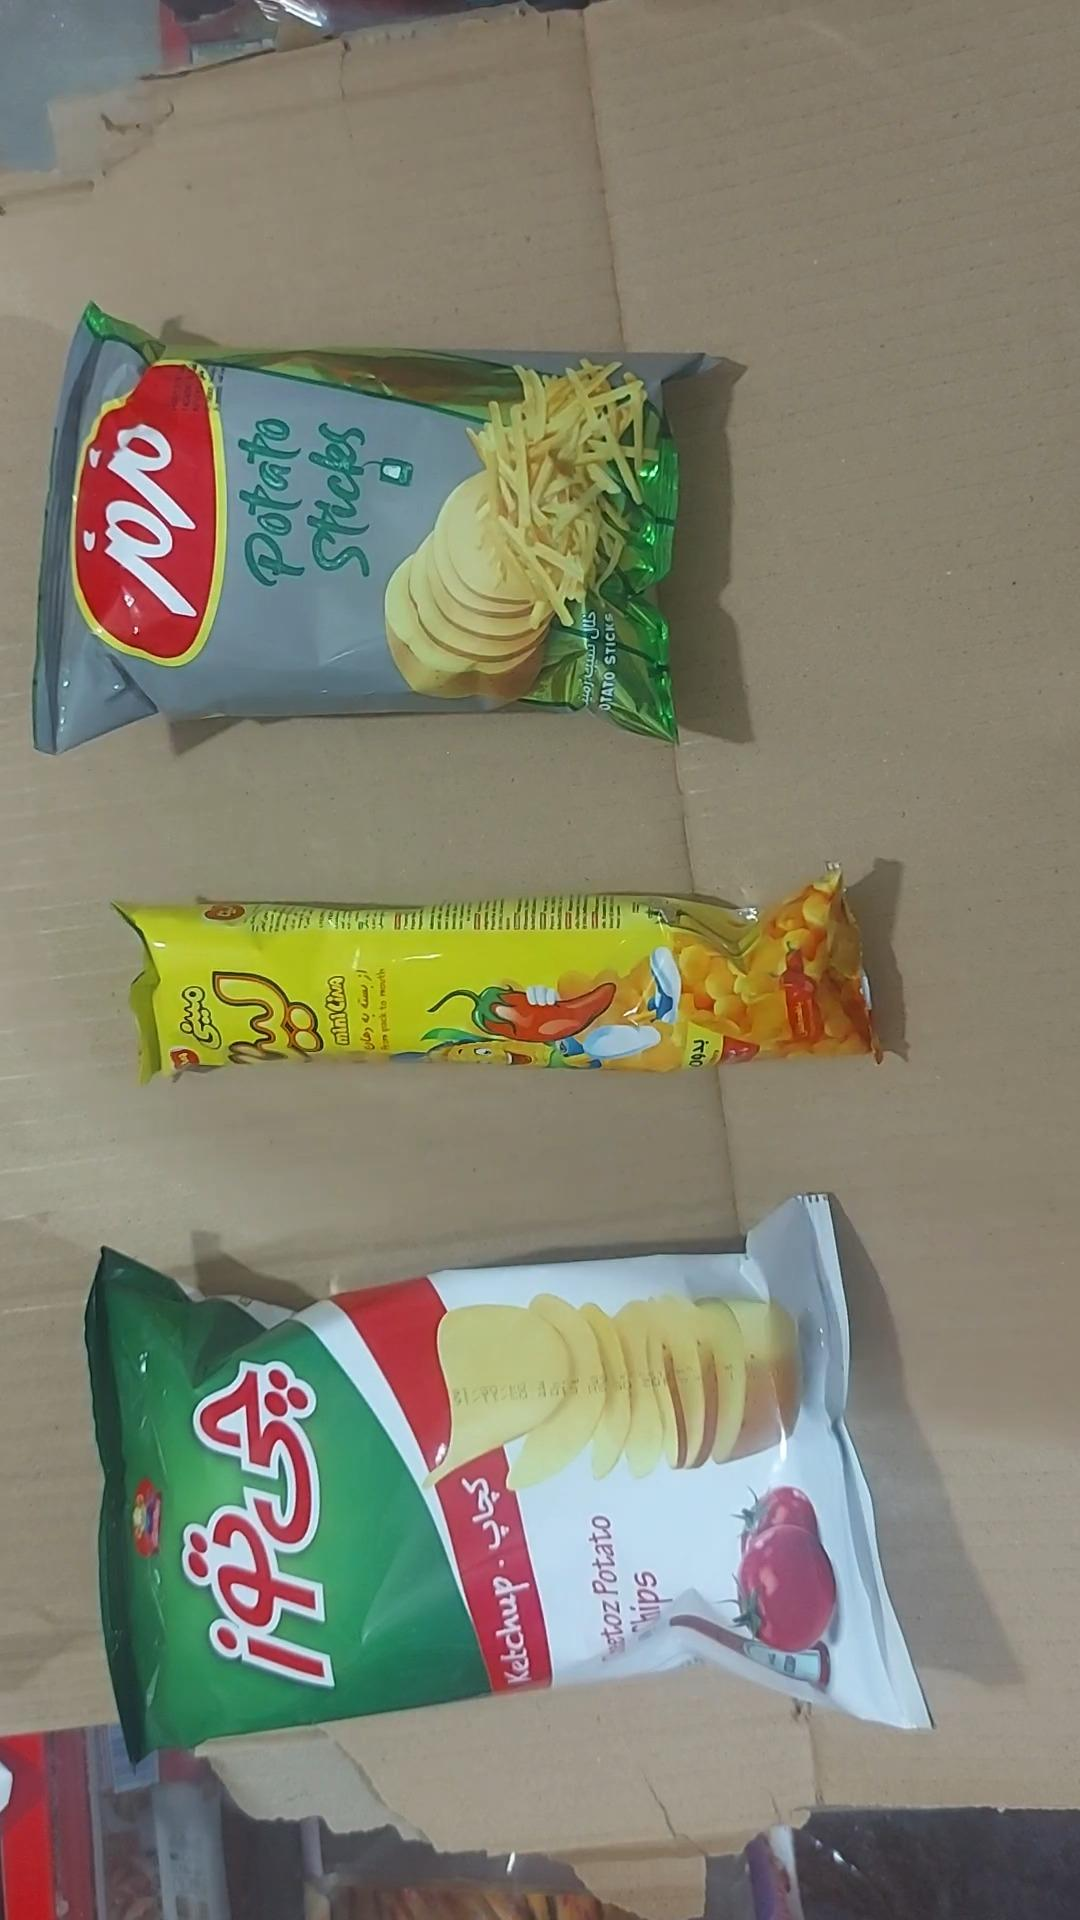Cheetoz ketchup chips: (86, 1197, 928, 1755)
Maz Maz potato sticks: (33, 305, 707, 753)
Mini Lina: (119, 870, 881, 1080)
